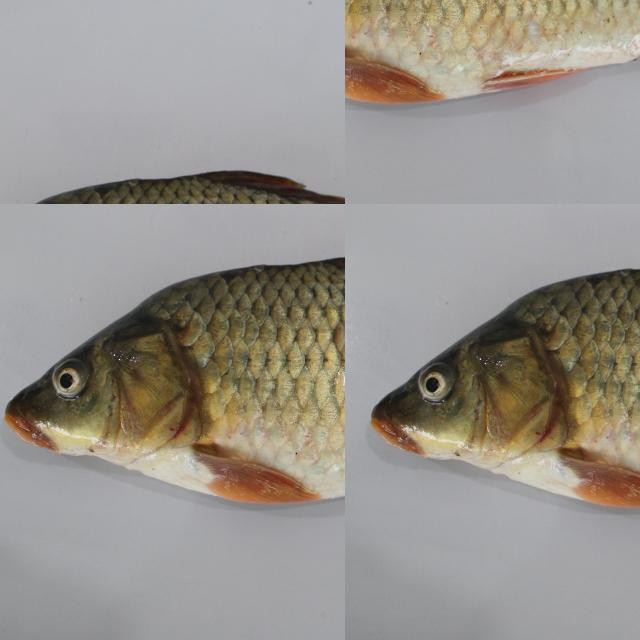fish: (0, 266, 345, 584), (362, 238, 640, 517)
